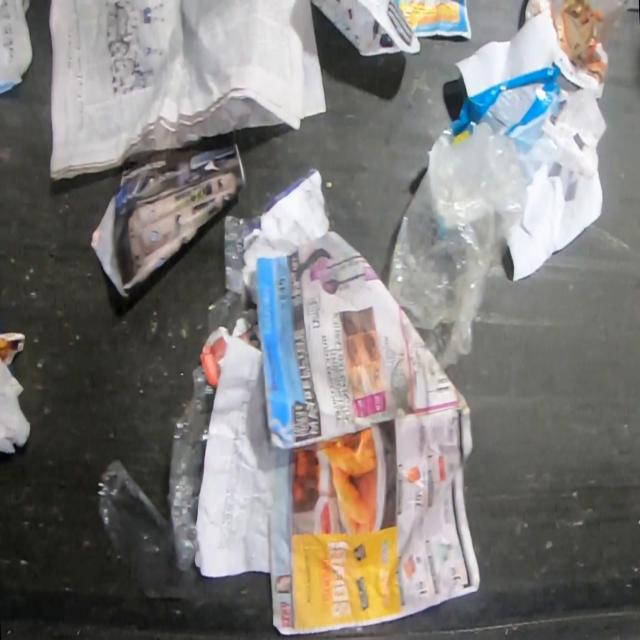soft_plastic: (384, 122, 526, 367), (96, 365, 216, 585), (442, 67, 559, 193), (207, 216, 257, 338)
